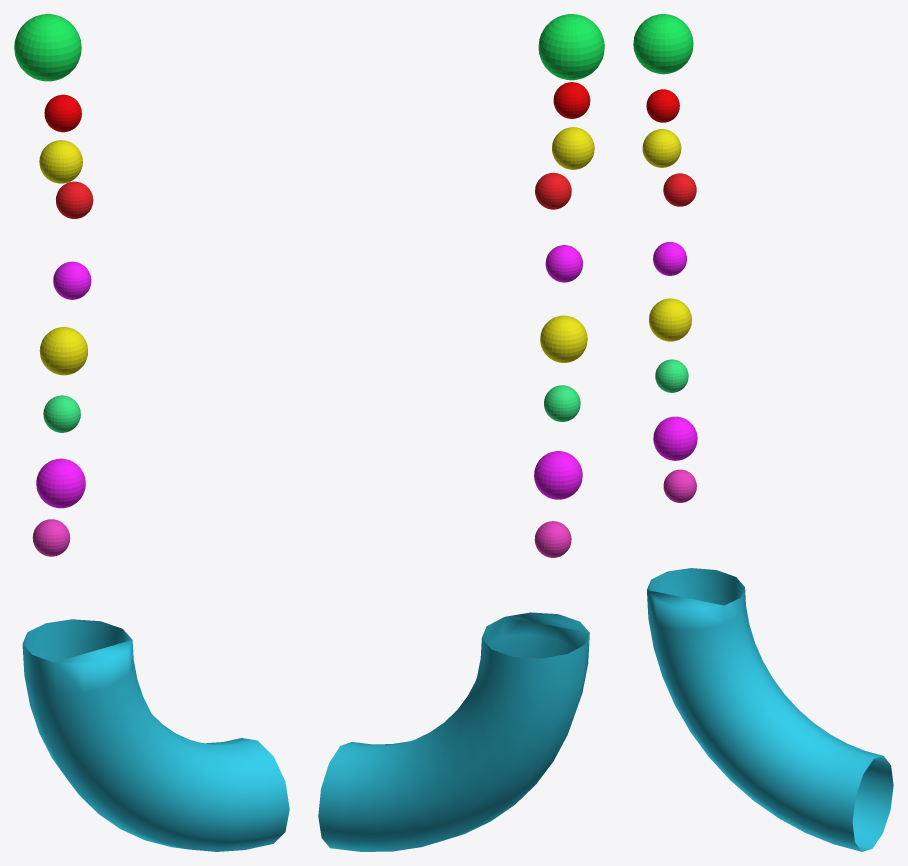
The model's file is physics.glb.
The picture shows the model from 3 angles, left to right: view 1: azimuth 30°, elevation 25°; view 2: azimuth 150°, elevation 25°; view 3: azimuth 330°, elevation 25°; orthographic projection. The views are drawn at different scales.
Parts seen in each view (by area): view 1: Torus.001, Sphere, Sphere.002, Sphere.003, Sphere.008, Sphere.009, Sphere.001, Sphere.004, Sphere.005, Sphere.007; view 2: Torus.001, Sphere, Sphere.002, Sphere.003, Sphere.008, Sphere.009, Sphere.001, Sphere.005, Sphere.007, Sphere.004; view 3: Torus.001, Sphere, Sphere.002, Sphere.003, Sphere.008, Sphere.009, Sphere.005, Sphere.001, Sphere.004, Sphere.007.
Part boxes in pixels (bbox=[...]): Torus.001: bbox=[22, 619, 289, 851]; Sphere: bbox=[14, 14, 81, 81]; Sphere.002: bbox=[36, 458, 85, 508]; Sphere.003: bbox=[39, 327, 87, 375]; Sphere.008: bbox=[39, 140, 82, 183]; Sphere.009: bbox=[53, 261, 91, 299]; Sphere.001: bbox=[43, 395, 80, 432]; Sphere.004: bbox=[32, 519, 70, 556]; Sphere.005: bbox=[44, 94, 81, 132]; Sphere.007: bbox=[56, 181, 93, 218]; Torus.001: bbox=[318, 612, 589, 851]; Sphere: bbox=[538, 14, 604, 80]; Sphere.002: bbox=[534, 451, 582, 499]; Sphere.003: bbox=[540, 315, 587, 362]; Sphere.008: bbox=[552, 127, 594, 169]; Sphere.009: bbox=[545, 245, 582, 282]; Sphere.001: bbox=[544, 385, 580, 421]; Sphere.005: bbox=[553, 82, 590, 118]; Sphere.007: bbox=[535, 172, 571, 209]; Sphere.004: bbox=[534, 521, 571, 557]; Torus.001: bbox=[647, 568, 893, 851]; Sphere: bbox=[633, 14, 693, 74]; Sphere.002: bbox=[653, 416, 697, 460]; Sphere.003: bbox=[649, 298, 691, 341]; Sphere.008: bbox=[642, 129, 681, 167]; Sphere.009: bbox=[653, 242, 686, 275]; Sphere.005: bbox=[646, 89, 679, 122]; Sphere.001: bbox=[655, 359, 688, 392]; Sphere.004: bbox=[663, 469, 696, 502]; Sphere.007: bbox=[663, 173, 696, 206].
Size of what is drawn, in the model's own units: 2.36 by 7.83 by 1.03.
